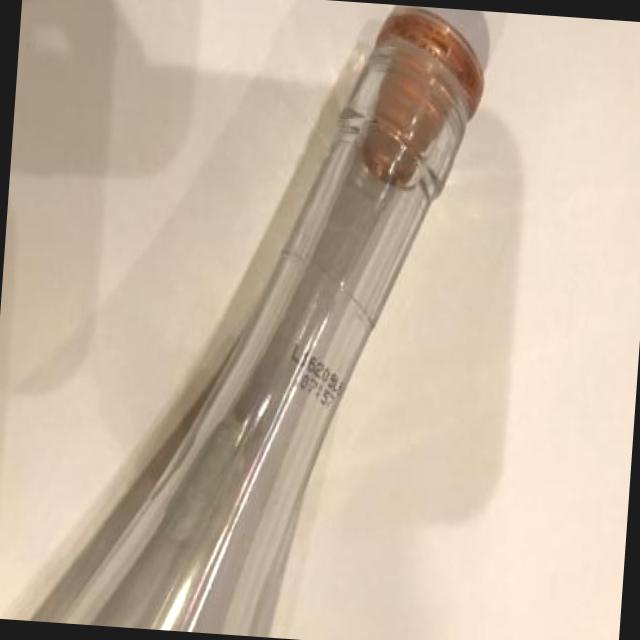chai_thuy_tinh: (33, 10, 483, 637)
